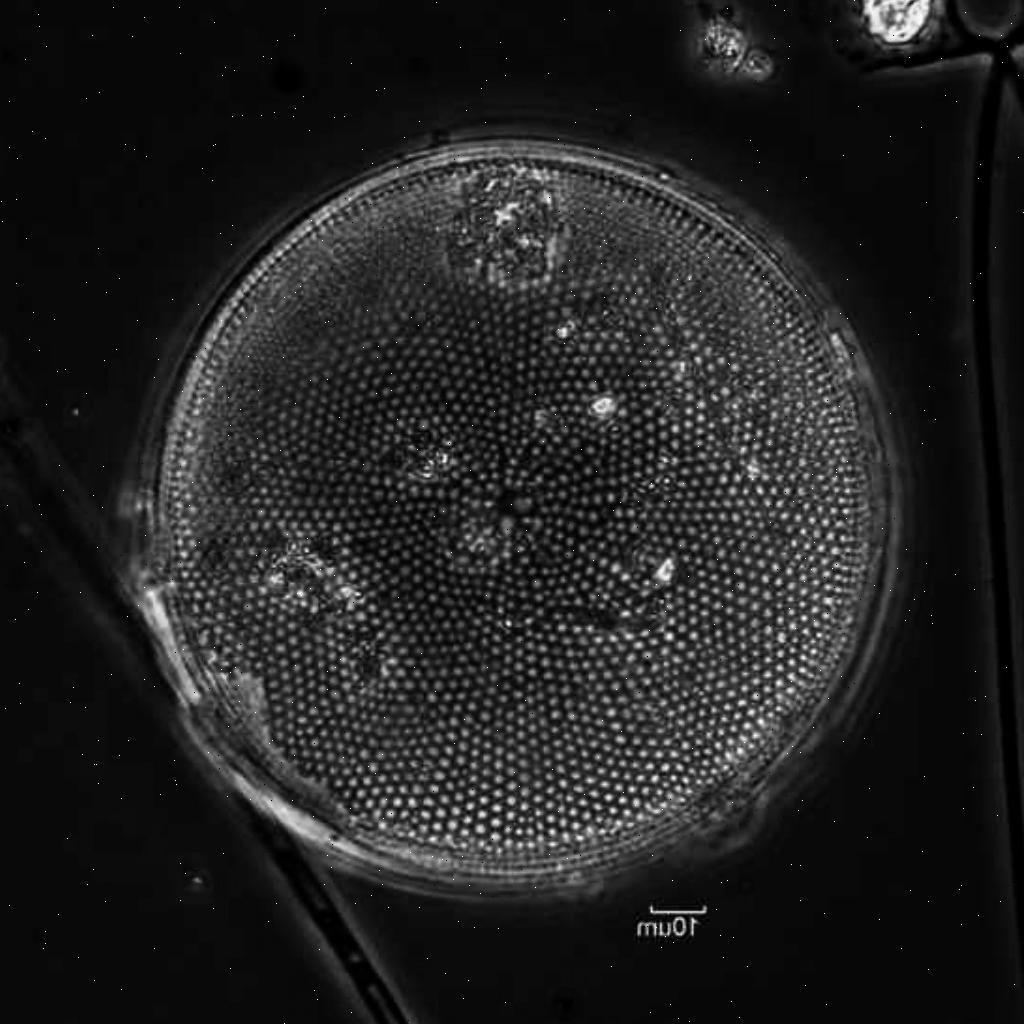coscinodiscus_oculus_iridis: (135, 145, 897, 886)
